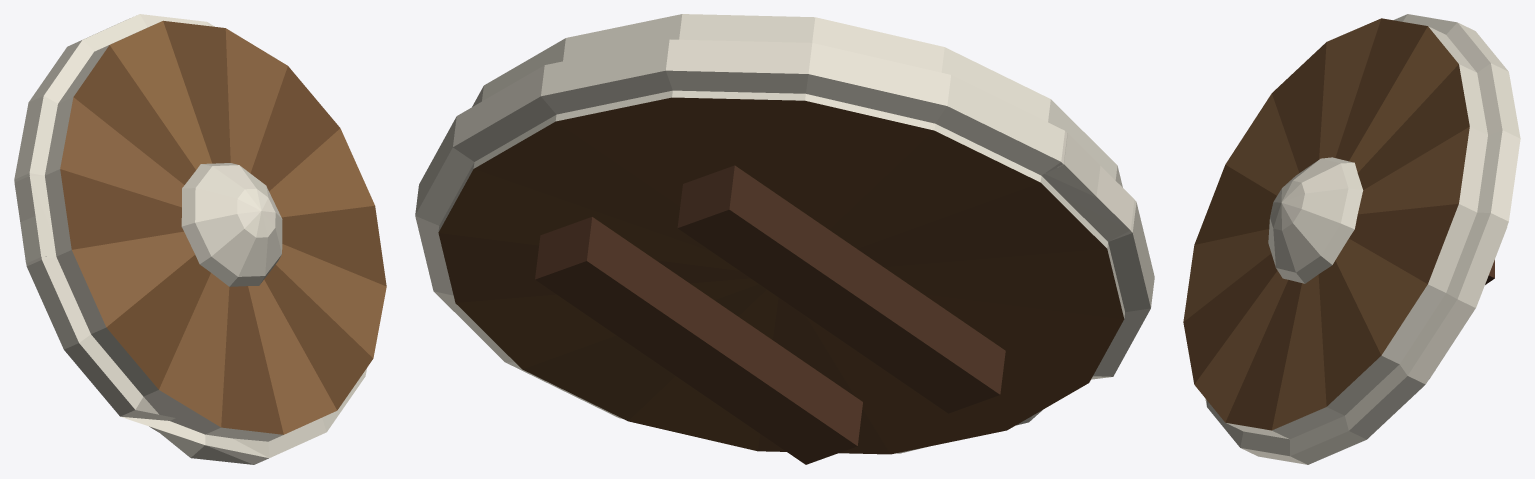
File: armor_shield_buckler.glb
3 views of the same model, side by side, from view 1: azimuth 30°, elevation 25°; view 2: azimuth 150°, elevation 25°; view 3: azimuth 270°, elevation 25° (orthographic). The views are drawn at different scales.
Parts seen in each view (by area): view 1: armor_shield_buckler; view 2: armor_shield_buckler; view 3: armor_shield_buckler.
Boxes of the visible parts, <box> form: armor_shield_buckler: <box>14,14,386,464</box>; armor_shield_buckler: <box>415,14,1154,464</box>; armor_shield_buckler: <box>1183,14,1520,464</box>.
Bounding box in the file's own units: 0.413 × 0.3674 × 0.3027.
